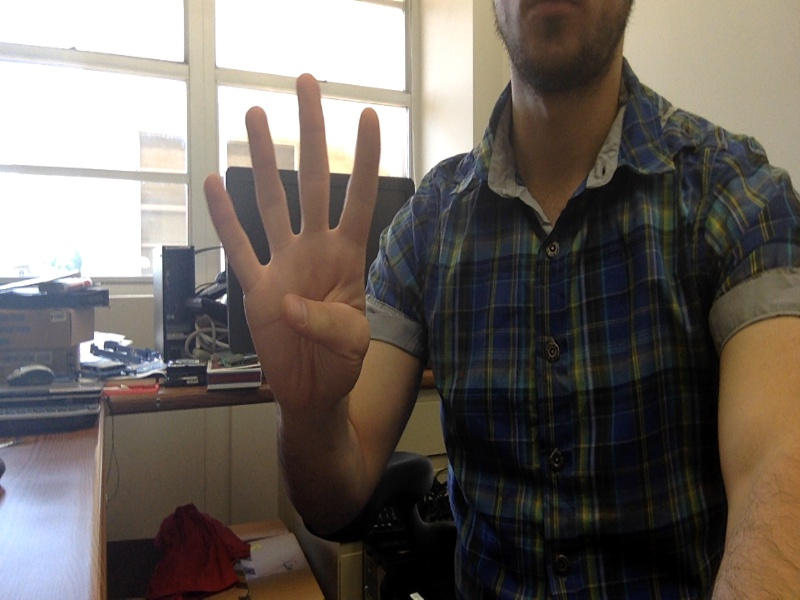4-hand: (203, 74, 386, 412)
